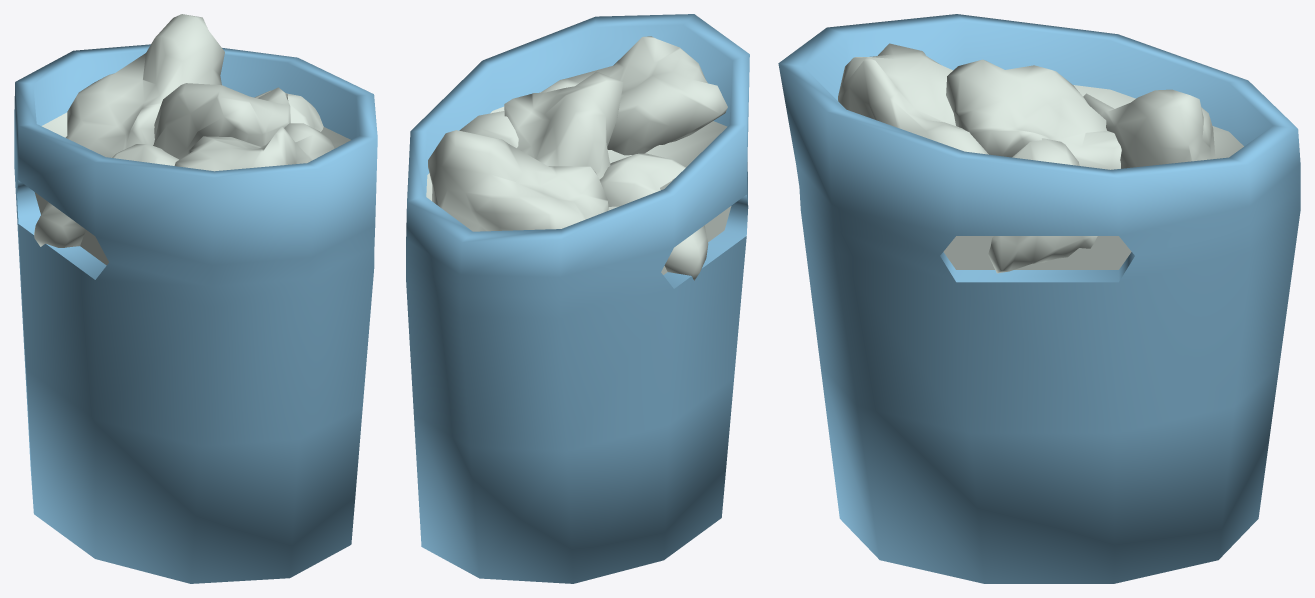
The model's file is props_basketTrash.fbx.
3 views of the same model, side by side, from view 1: azimuth 30°, elevation 25°; view 2: azimuth 150°, elevation 25°; view 3: azimuth 270°, elevation 25° (orthographic). The views are drawn at different scales.
Visible parts, largest first — view 1: basket_trash; view 2: basket_trash; view 3: basket_trash.
Part boxes in pixels (x1,y1,x2,y2): basket_trash: (14, 14, 377, 583); basket_trash: (406, 14, 749, 583); basket_trash: (778, 14, 1300, 583).
Size of the model in its own units: 0.6162 by 0.9261 by 0.9057.
